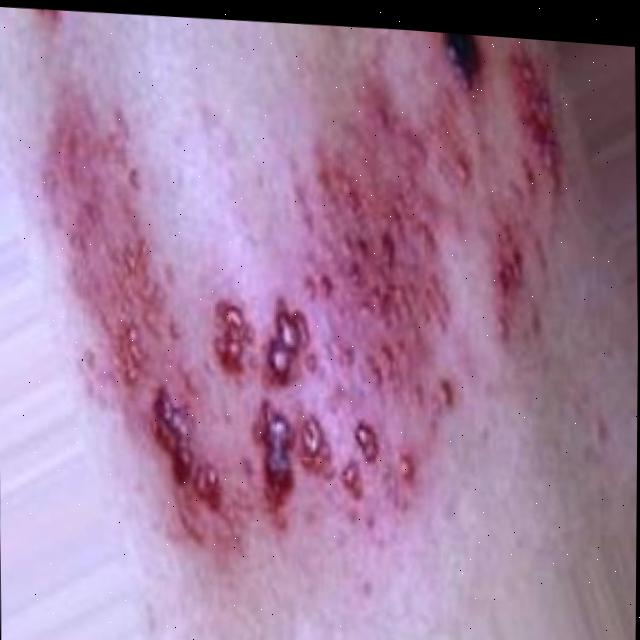Shingles: (37, 16, 564, 598)
